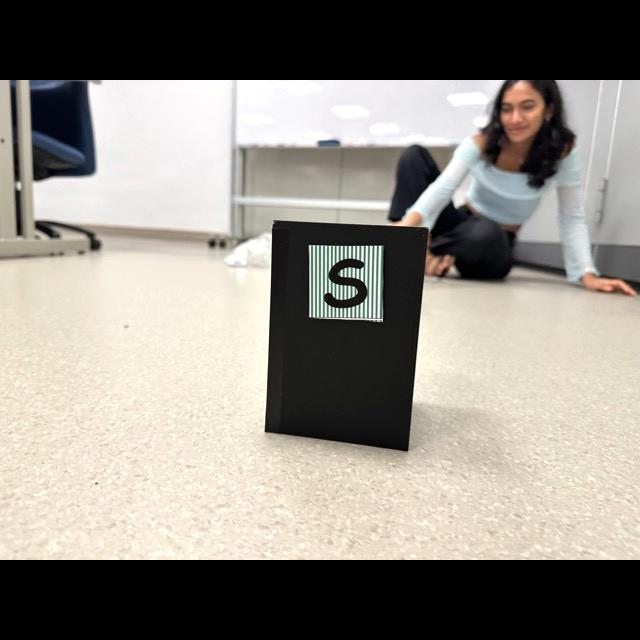S: (324, 258, 367, 307)
